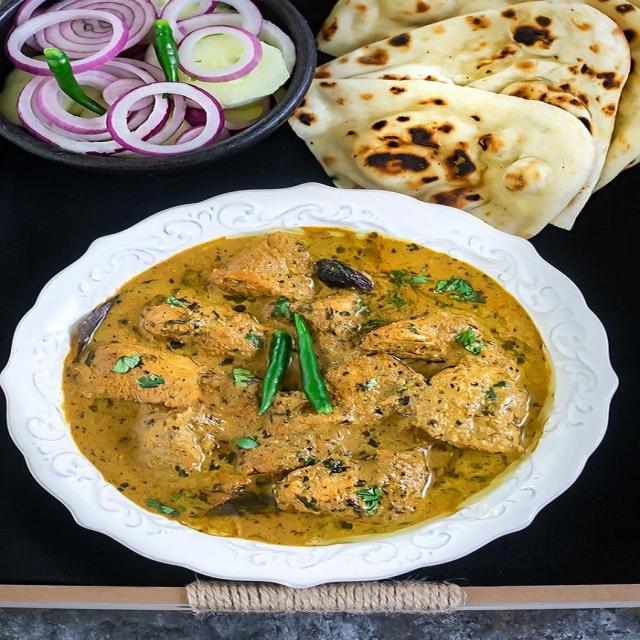chicken: (88, 237, 524, 544)
roti: (314, 1, 634, 213)
